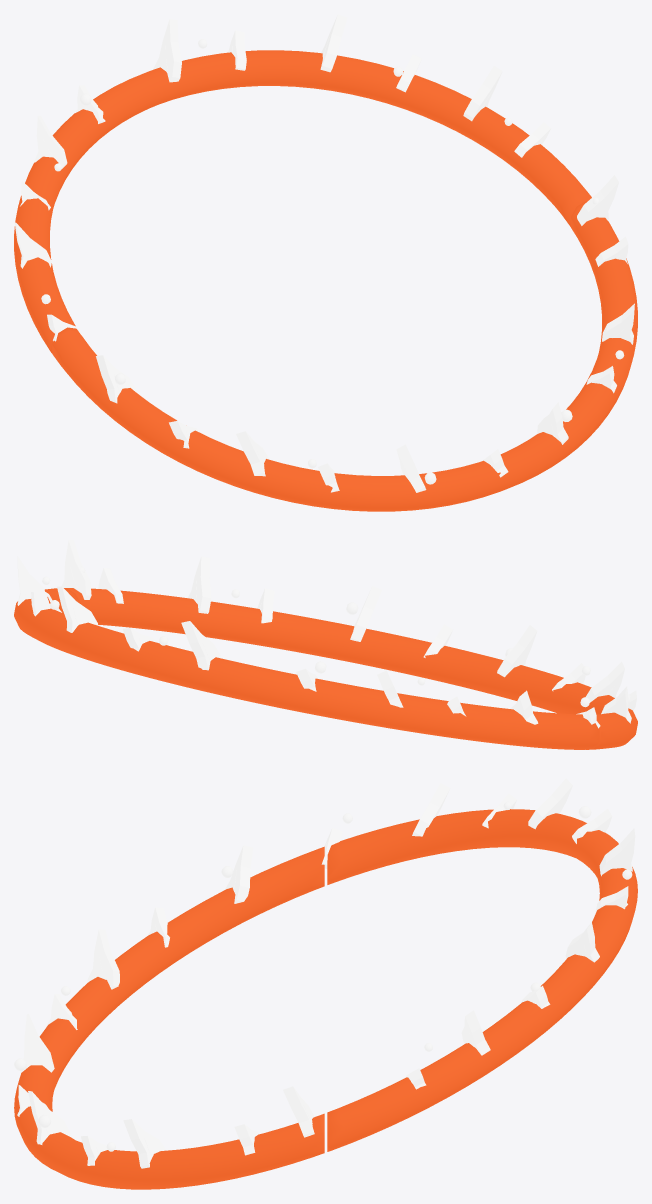
File: orbit_fire.glb
3 renders of one model, top to bottom at view 1: azimuth 30°, elevation 25°; view 2: azimuth 150°, elevation 25°; view 3: azimuth 270°, elevation 25°, orthographic. The views are drawn at different scales.
Parts seen in each view (by area): view 1: glow_b.001, glow_f.001, flame16, flame0, flame20, flame18, flame14, flame10, flame8; view 2: glow_f.001, glow_b.001, flame0, flame16, flame2, flame6, flame18, flame8, flame4, flame20, flame10, flame1 (+6 smaller); view 3: glow_f.001, glow_b.001, flame8, flame10, flame2, flame6, flame14, flame16, flame4, flame0, flame12, flame20 (+1 smaller).
Part boxes in pixels (<box>): glow_b.001: <box>52,201,637,511</box>; glow_f.001: <box>14,50,591,353</box>; flame16: <box>153,19,181,82</box>; flame0: <box>577,175,618,225</box>; flame20: <box>463,66,502,121</box>; flame18: <box>320,14,347,72</box>; flame14: <box>34,115,67,168</box>; flame10: <box>96,355,135,403</box>; flame8: <box>236,431,269,476</box>; glow_f.001: <box>14,588,599,749</box>; glow_b.001: <box>66,588,637,749</box>; flame0: <box>61,540,91,599</box>; flame16: <box>181,621,220,670</box>; flame2: <box>187,556,211,613</box>; flame6: <box>497,625,537,677</box>; flame18: <box>57,586,97,632</box>; flame8: <box>585,661,624,702</box>; flame4: <box>350,586,381,641</box>; flame20: <box>17,556,48,605</box>; flame10: <box>601,686,631,723</box>; flame1: <box>98,568,123,603</box>; glow_f.001: <box>327,809,637,1151</box>; glow_b.001: <box>14,846,324,1189</box>; flame8: <box>87,929,119,989</box>; flame10: <box>225,845,253,903</box>; flame2: <box>123,1119,166,1168</box>; flame6: <box>20,1014,54,1072</box>; flame14: <box>528,778,572,829</box>; flame16: <box>599,828,635,876</box>; flame4: <box>28,1091,70,1144</box>; flame0: <box>283,1086,314,1137</box>; flame12: <box>412,783,450,836</box>; flame20: <box>461,1010,490,1055</box>.
Bounding box in the file's own units: 2.97 × 1.42 × 2.78.
